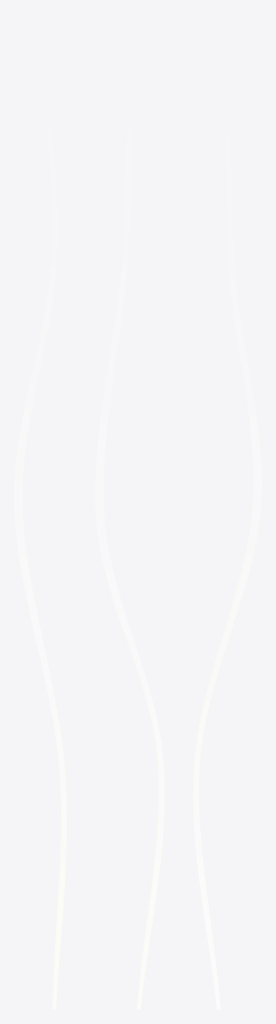
Rendered from strand_b_cairn.glb.
3 views of the same model, side by side, from view 1: azimuth 90°, elevation 25°; view 2: azimuth 150°, elevation 25°; view 3: azimuth 330°, elevation 25° (orthographic).
Size of the model in its own units: 0.3342 by 7 by 0.3373.
